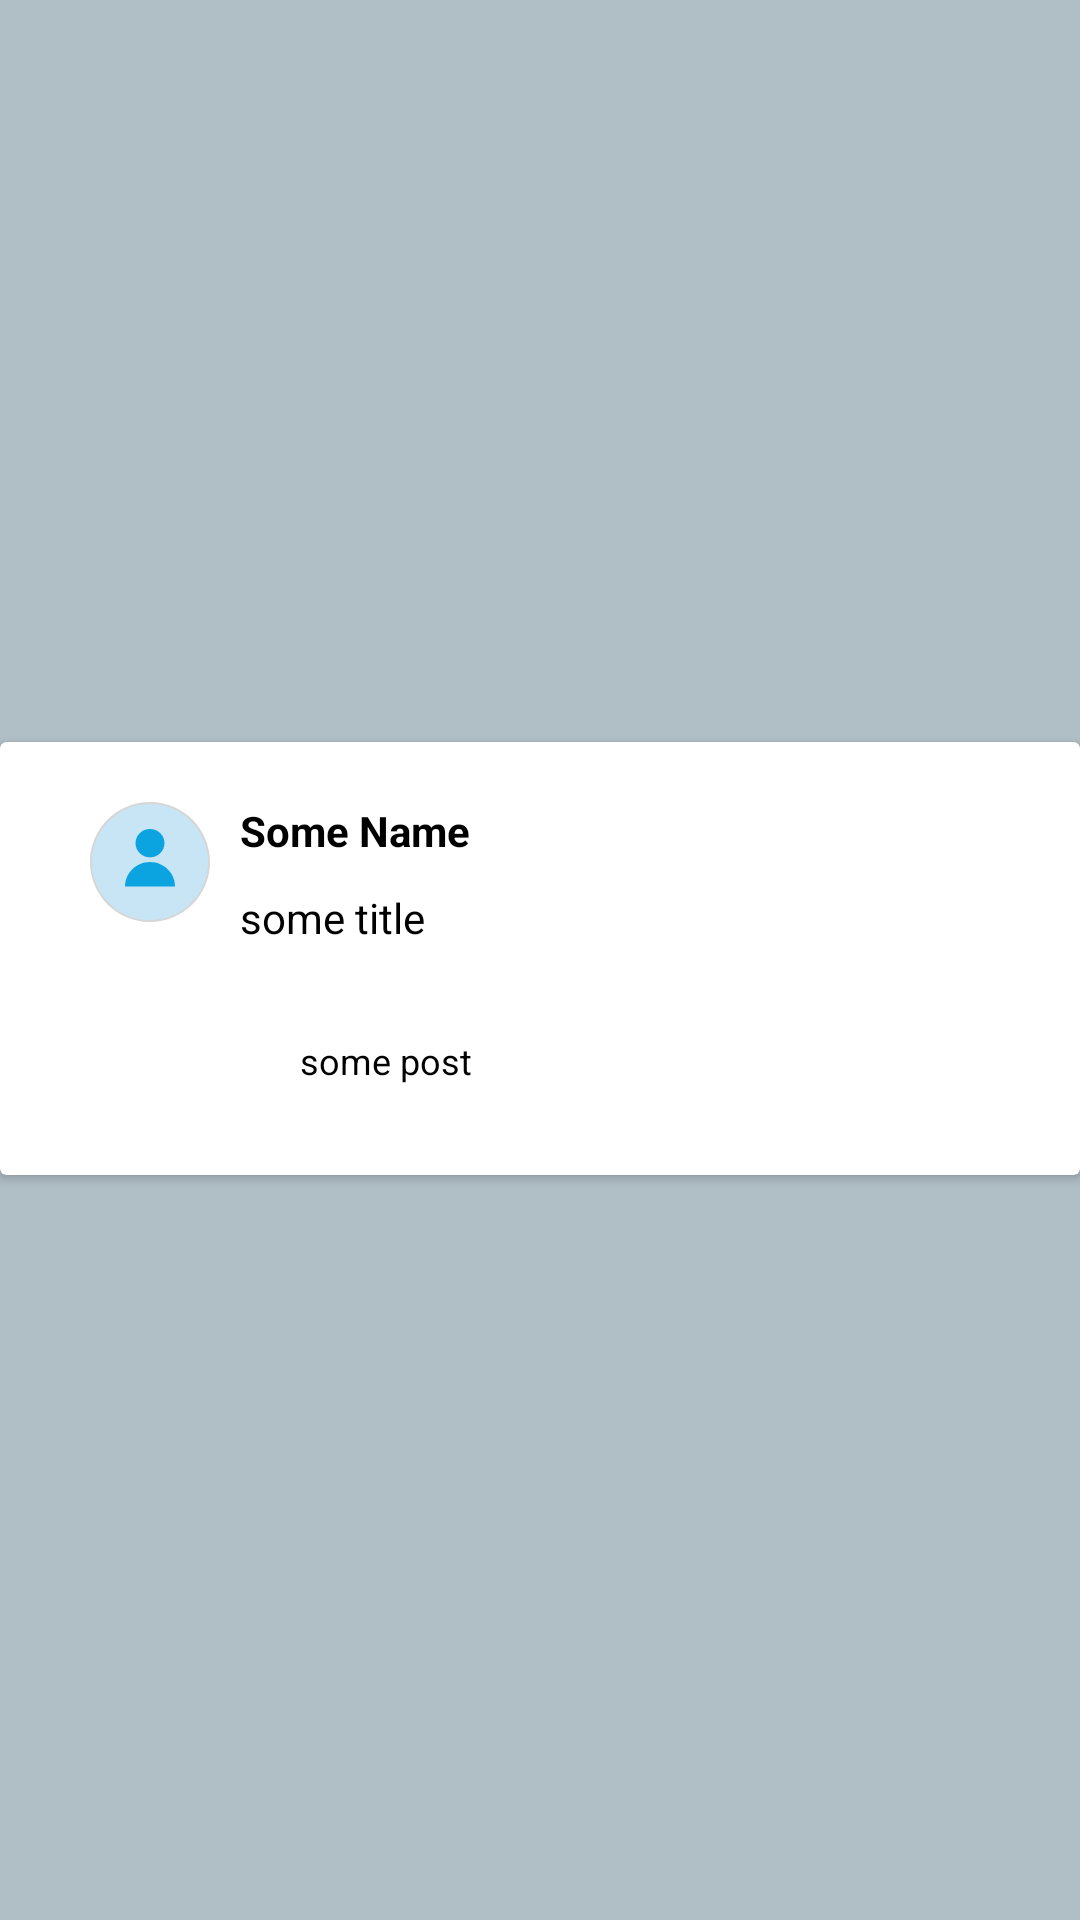

Icon click points for this 1080px×1920px phone screenshot, format (x=x, y=y):
userprofiletwo: (x=150, y=862)
